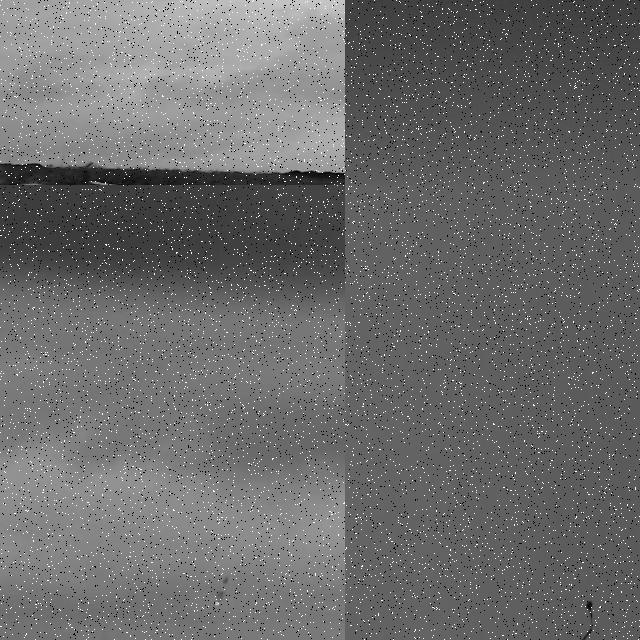Rocket: (212, 575, 231, 602), (581, 623, 592, 640)
